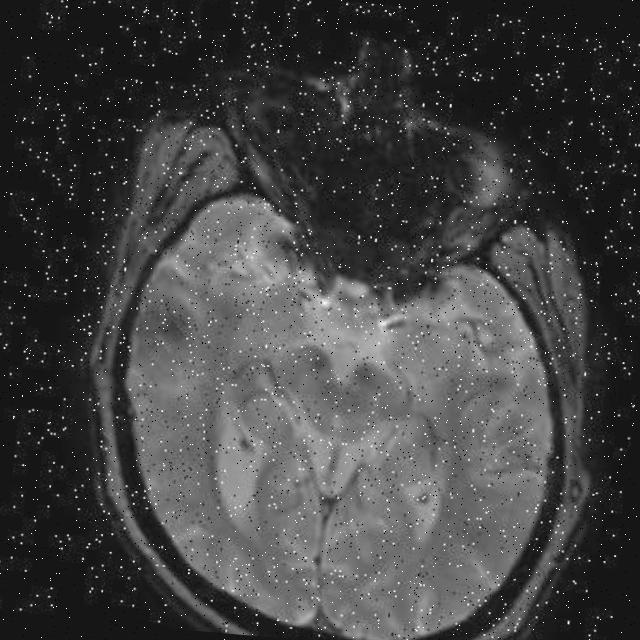CN: (465, 393, 559, 515), (407, 276, 528, 365), (124, 261, 216, 363)
